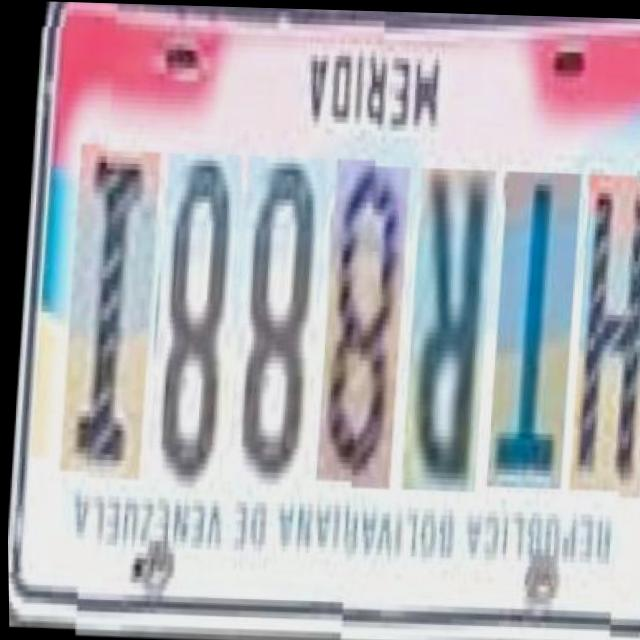8: (219, 160, 323, 490), (139, 157, 237, 494), (308, 163, 406, 487)
h: (563, 170, 640, 488)
i: (52, 156, 156, 486)
r: (393, 166, 491, 490)
t: (478, 168, 576, 487)
